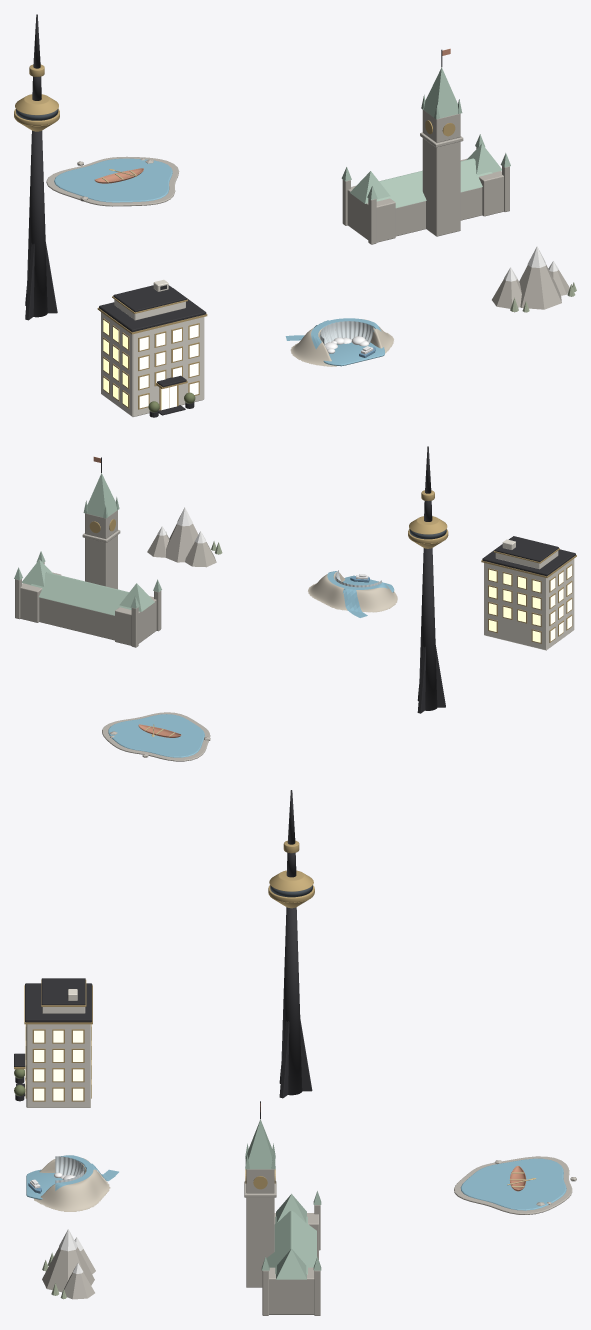
Rendered from v4-landmarks.glb.
3 views of the same model, one above another, from view 1: azimuth 30°, elevation 25°; view 2: azimuth 150°, elevation 25°; view 3: azimuth 270°, elevation 25° (orthographic). The views are drawn at different scales.
Parts seen in each view (by area): view 1: of_body, ca_lake, pt_shaft, cn_shaft, pa_roof, pa_pav, pa_hall, Cone, ni_plateau, ca_shore, pt_spire, pa_pav.001 (+9 smaller); view 2: of_body, ca_lake, pa_roof, cn_shaft, pa_hall, ni_plateau, pt_shaft, pa_pav, ca_shore, Cone, pt_spire, pa_pav.001 (+6 smaller); view 3: of_body, ca_lake, cn_shaft, pt_shaft, ni_plateau, pa_roof, pa_pav.001, Cone, ca_shore, pt_spire, pa_pavroof.001, cn_cap.
Part boxes in pixels (box(x1,y1,x2,y2)): of_body: box(97, 279, 207, 417); ca_lake: box(54, 158, 172, 202); pt_shaft: box(422, 138, 460, 236); cn_shaft: box(26, 130, 47, 317); pa_roof: box(376, 158, 492, 207); pa_pav: box(347, 186, 395, 242); pa_hall: box(395, 187, 482, 236); Cone: box(519, 264, 561, 309); ni_plateau: box(290, 319, 393, 366); ca_shore: box(46, 156, 179, 206); pt_spire: box(423, 67, 458, 118); pa_pav.001: box(460, 158, 503, 216); of_body: box(481, 536, 576, 650); ca_lake: box(108, 714, 204, 757); pa_roof: box(30, 572, 131, 615); cn_shaft: box(419, 548, 437, 710); pa_hall: box(39, 597, 114, 640); ni_plateau: box(308, 572, 397, 612); pt_shaft: box(85, 535, 117, 589); pa_pav: box(115, 596, 156, 645); ca_shore: box(102, 712, 210, 761); Cone: box(166, 524, 198, 562); pt_spire: box(87, 473, 117, 517); pa_pav.001: box(20, 572, 61, 622); of_body: box(14, 978, 92, 1107); ca_lake: box(460, 1158, 566, 1210); cn_shaft: box(281, 907, 302, 1095); pt_shaft: box(246, 1197, 274, 1287); ni_plateau: box(34, 1158, 110, 1211); pa_roof: box(266, 1211, 316, 1274); pa_pav.001: box(269, 1267, 314, 1314); Cone: box(42, 1247, 94, 1292); ca_shore: box(454, 1156, 572, 1214); pt_spire: box(245, 1119, 275, 1169); pa_pavroof.001: box(276, 1248, 306, 1279); cn_cap: box(269, 870, 313, 891).
Bounding box in the file's own units: 8.94 × 5.17 × 8.7.
